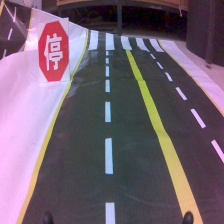stop: (37, 18, 73, 84)
